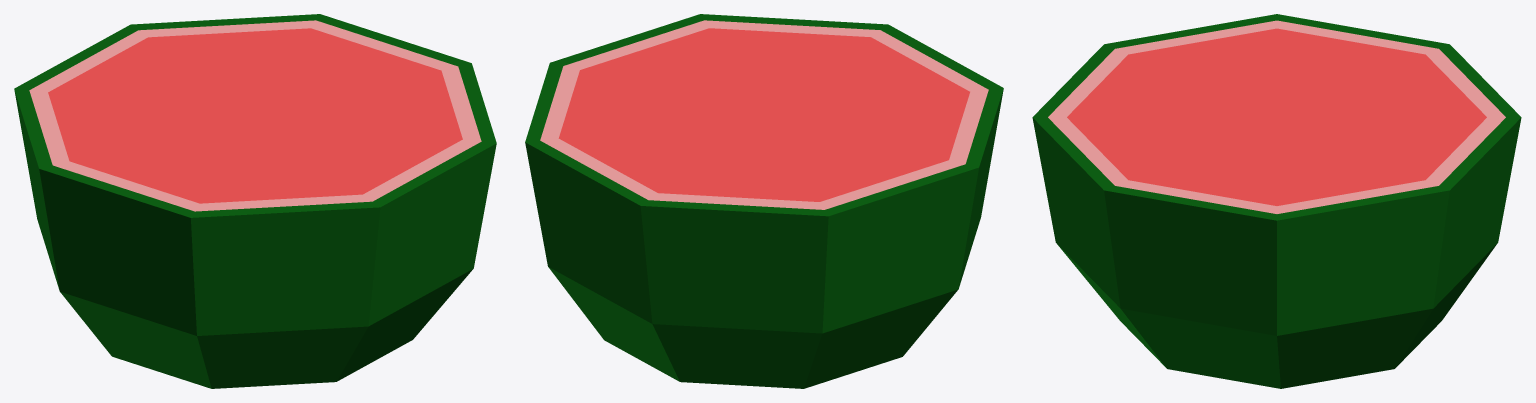
Rendered from watermelon02.gltf.
The picture shows the model from 3 angles, left to right: view 1: azimuth 30°, elevation 25°; view 2: azimuth 150°, elevation 25°; view 3: azimuth 270°, elevation 25°; orthographic projection. The views are drawn at different scales.
Visible parts, largest first — view 1: Cylinder; view 2: Cylinder; view 3: Cylinder.
Part boxes in pixels (left/top/right/bottom): Cylinder: left=14, top=14, right=496, bottom=388; Cylinder: left=525, top=14, right=1003, bottom=388; Cylinder: left=1032, top=14, right=1521, bottom=388.
Size of the model in its own units: 0.1946 by 0.1016 by 0.1946.
Materials: 1 (1 with a texture image).
